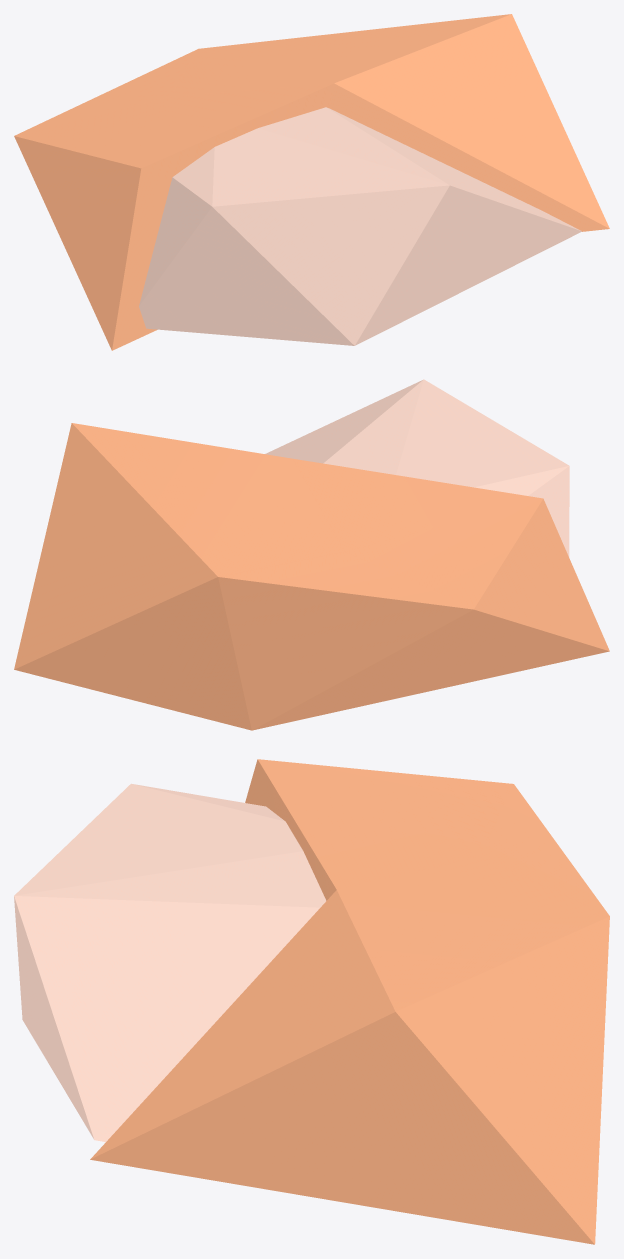
Rendered from Breadcrumb.glb.
The picture shows the model from 3 angles, top to bottom: view 1: azimuth 30°, elevation 25°; view 2: azimuth 150°, elevation 25°; view 3: azimuth 270°, elevation 25°; orthographic projection. The views are drawn at different scales.
Parts seen in each view (by area): view 1: BreadCrumb; view 2: BreadCrumb; view 3: BreadCrumb.
Part boxes in pixels (<box>): BreadCrumb: <box>14,14,609,350</box>; BreadCrumb: <box>14,379,609,730</box>; BreadCrumb: <box>14,759,609,1244</box>.
Bounding box in the file's own units: 0.3332 × 0.137 × 0.2809.
1 material, 1 textured.
